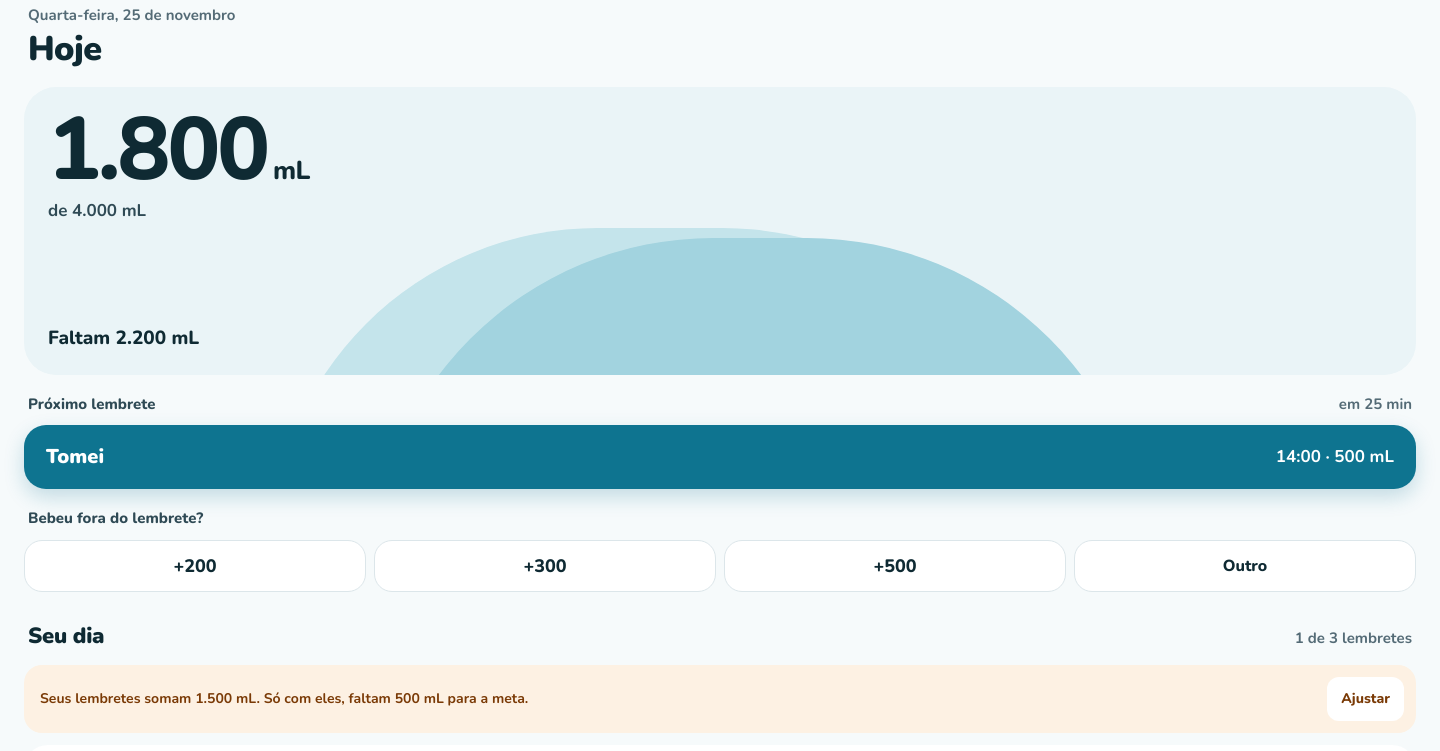
WaterTodayPage (design "Módulo Água") › erro do servidor numa ação aparece no aviso
The width and height of the screenshot is (1440, 751).
Click the button "Tomei 14:00 · 500 mL": point(75, 456) [24,425,1416,489]
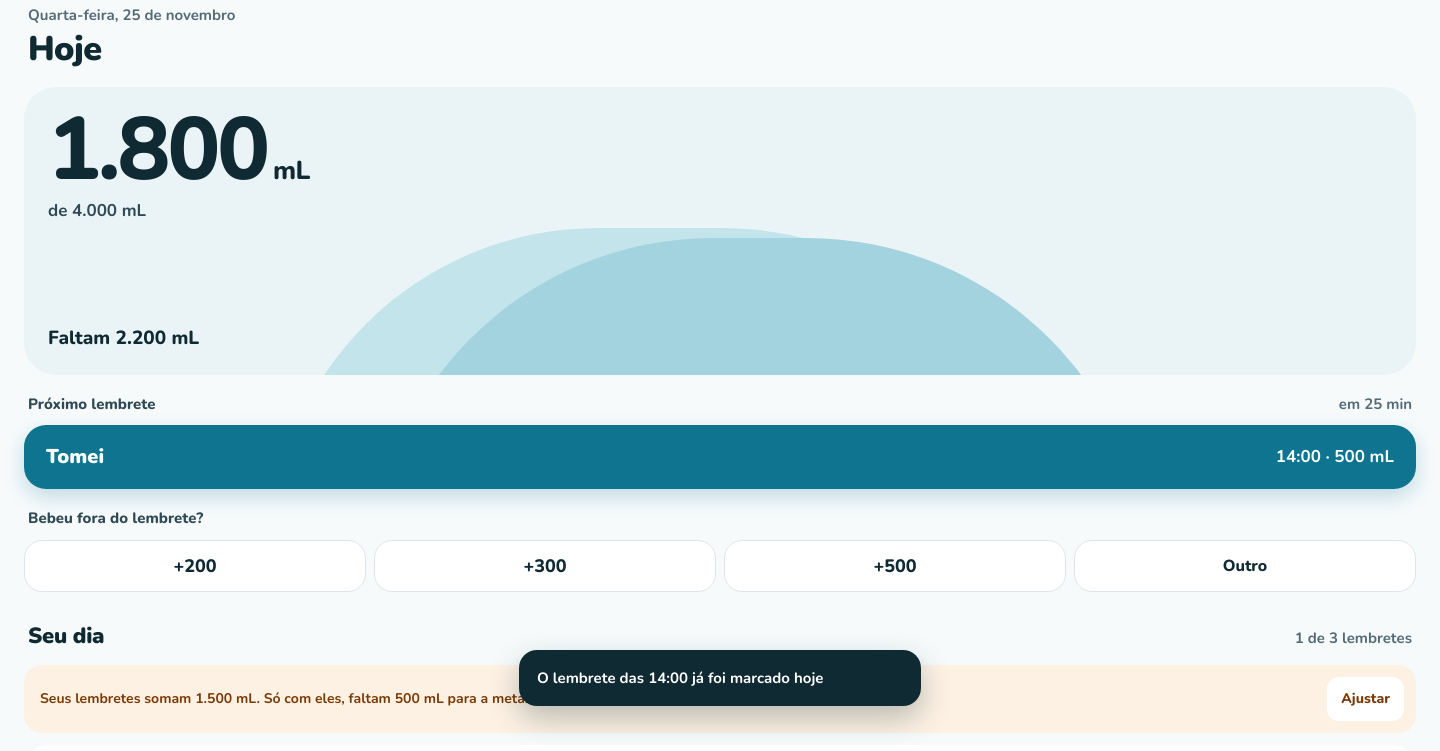
Now the text "O lembrete das 14:00 já foi marcado hoje" is shown, box [537,667,823,689]
